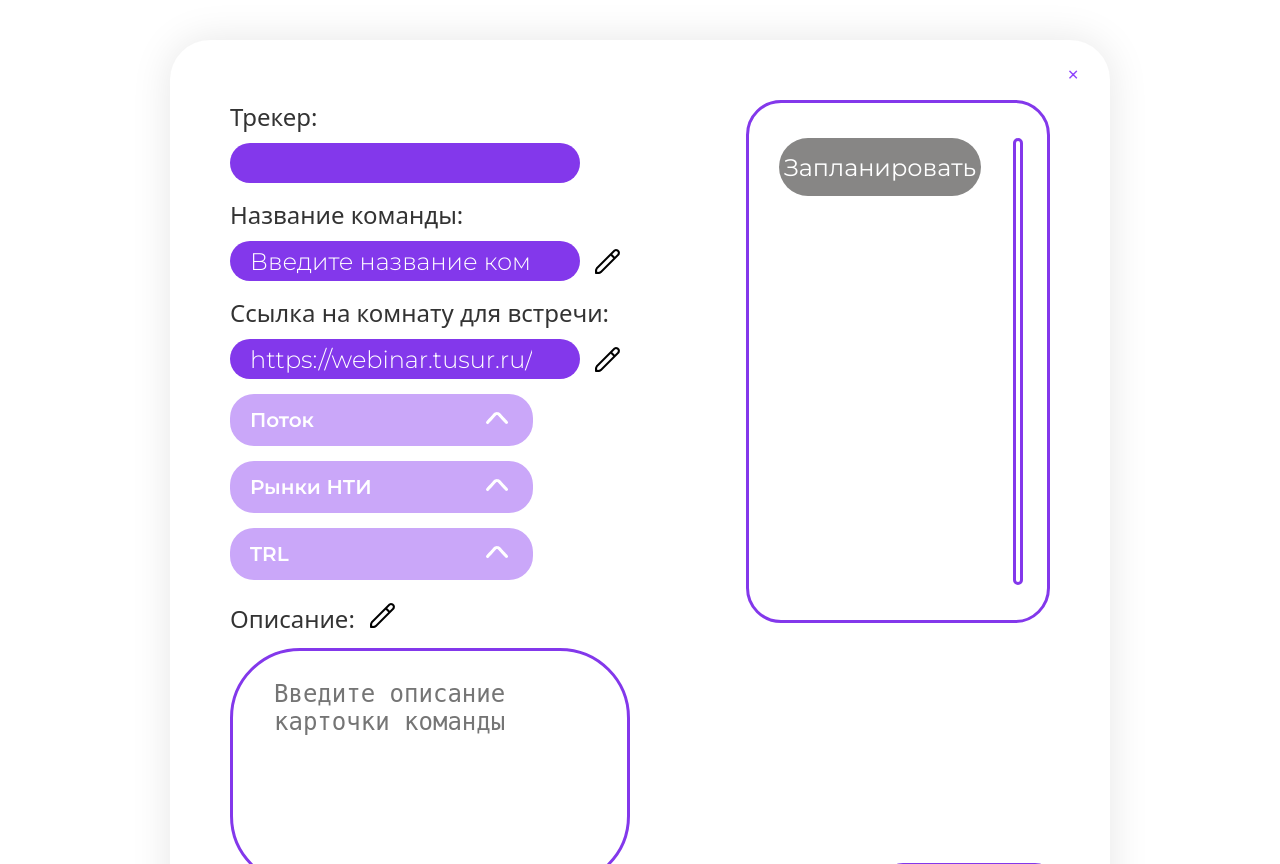
Scenario: TeamCard — выбор рынков НТИ › позволяет снять выбор рынка НТИ
Step 1. Click the text "Рынки НТИ" → (382, 487), box [230,461,533,513]
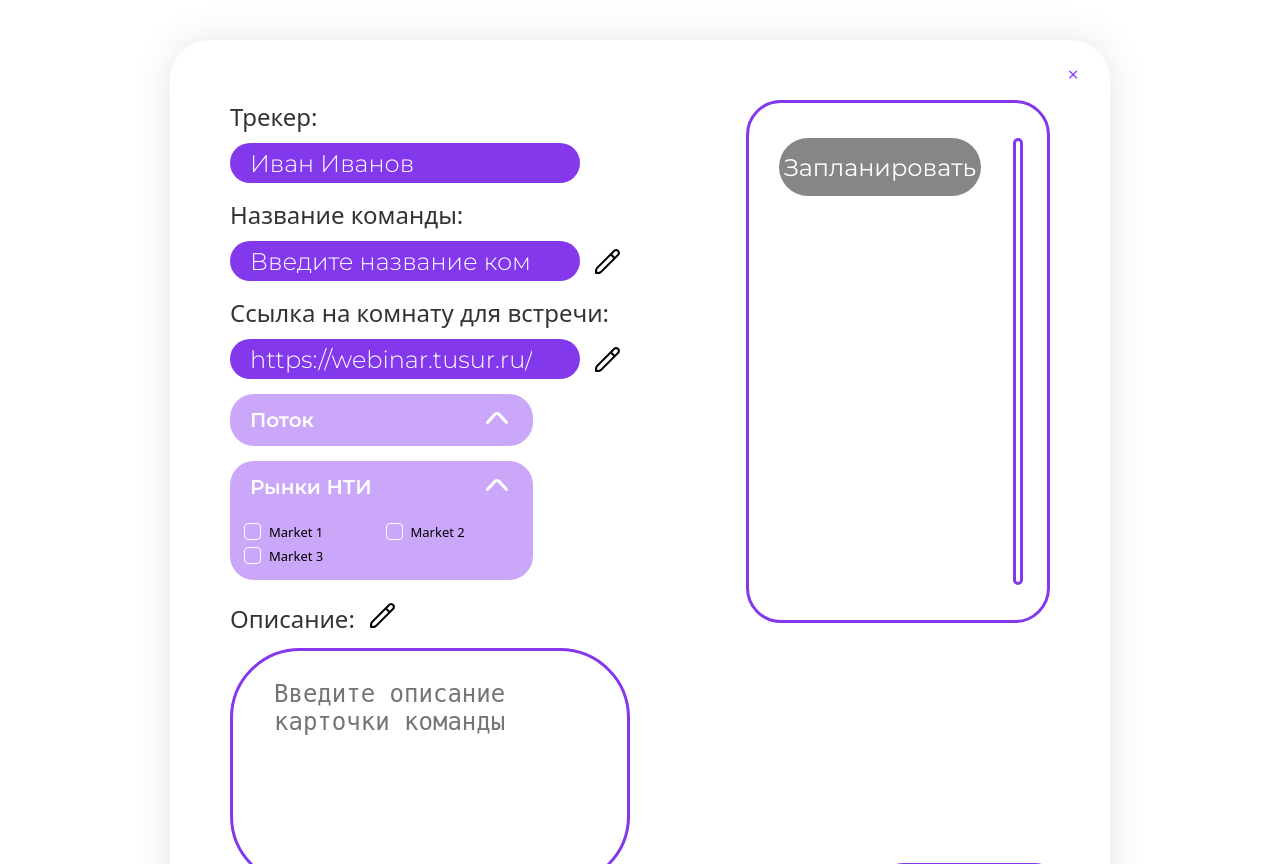
Step 2. Click the checkbox next to "Market 1" → (252, 532), box [244,523,261,540]
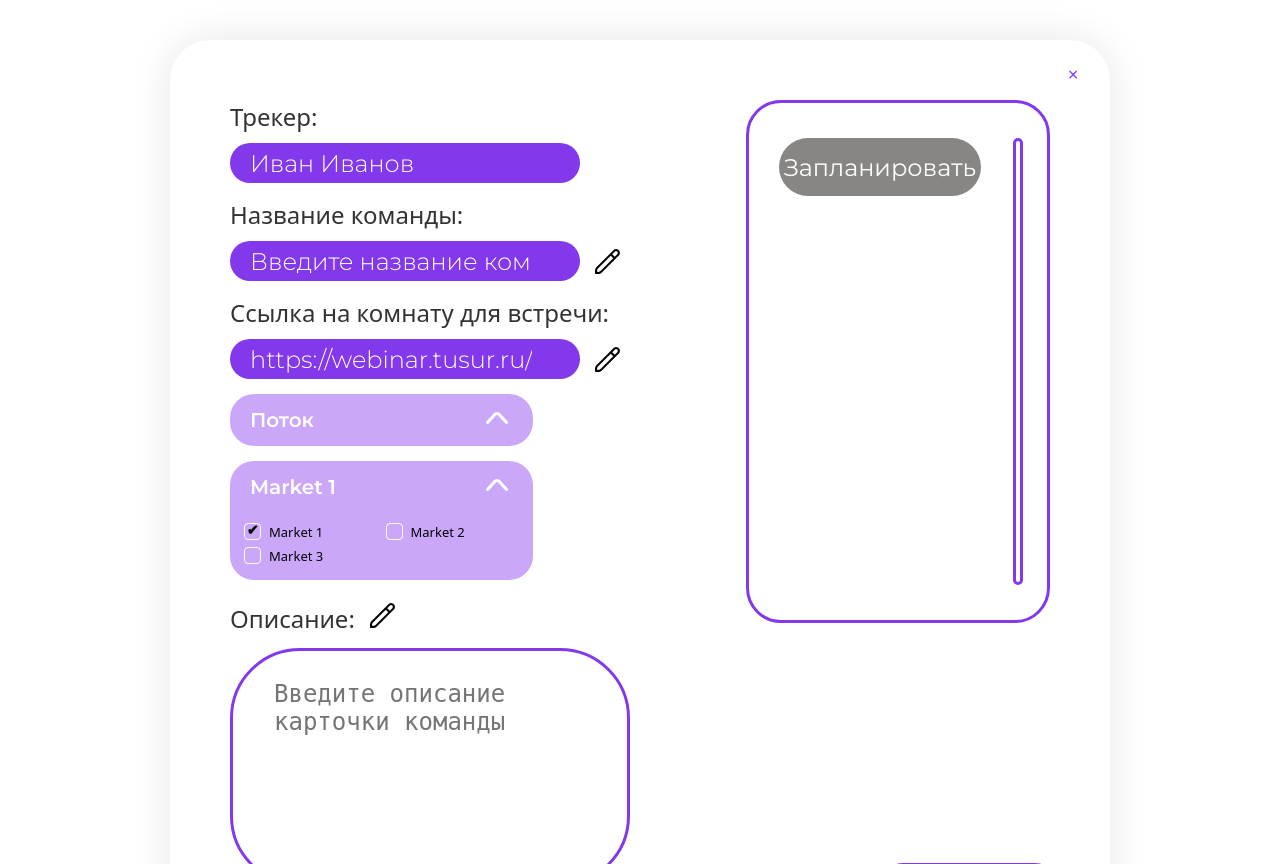
expect the text "Market 1" is shown: met, box [230,461,533,513]
Step 3. Click the 1st checkbox → (252, 532), box [244,523,261,540]
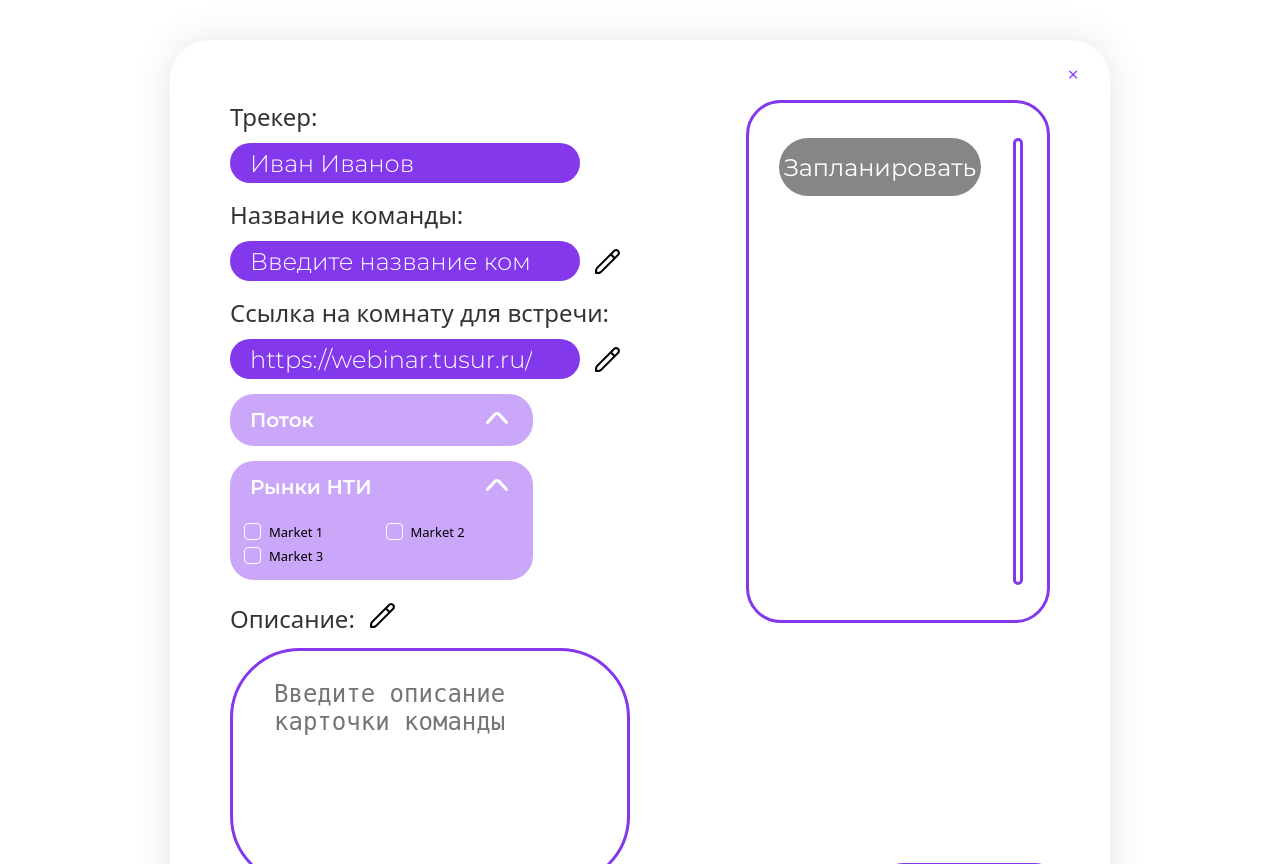
expect the checkbox next to "Market 1" is not checked: met, box [244,523,261,540]
expect the text "Рынки НТИ" is shown: met, box [230,461,533,513]
